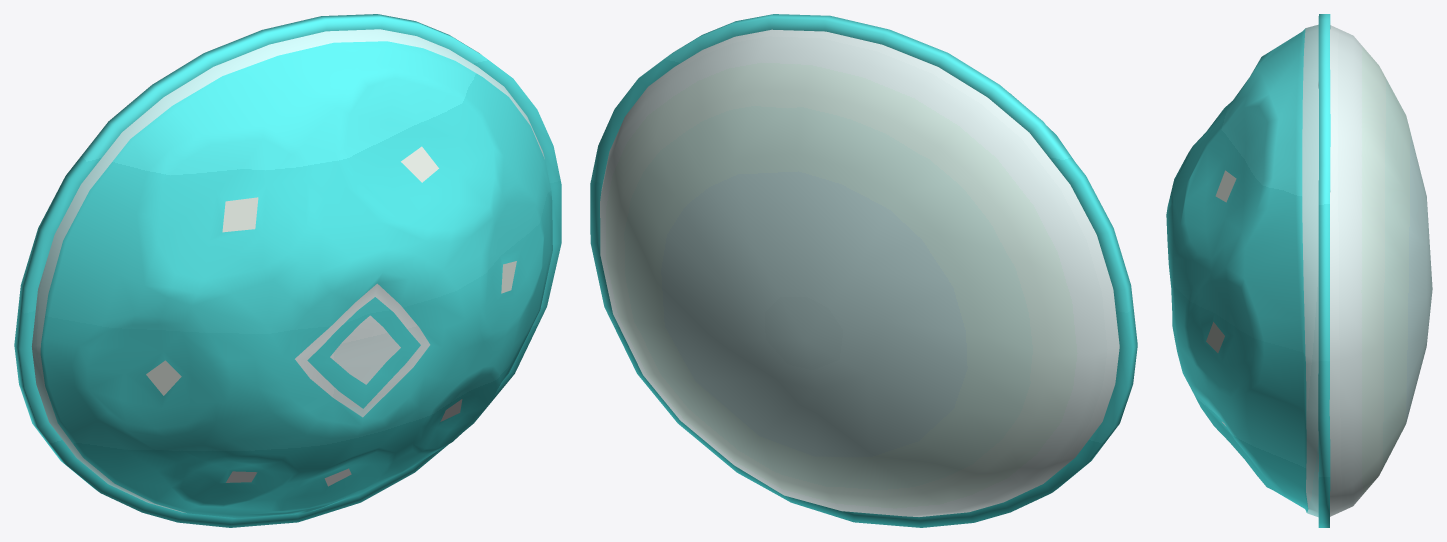
The model's file is CharSkyKid_Prop_AP07HandPan.glb.
The picture shows the model from 3 angles, left to right: view 1: azimuth 30°, elevation 25°; view 2: azimuth 150°, elevation 25°; view 3: azimuth 270°, elevation 25°; orthographic projection. The views are drawn at different scales.
Parts seen in each view (by area): view 1: CharSkyKid_Prop_AP07HandPan; view 2: CharSkyKid_Prop_AP07HandPan; view 3: CharSkyKid_Prop_AP07HandPan.
Boxes of the visible parts, x1,y1,x2,y2 form: CharSkyKid_Prop_AP07HandPan: (14, 14, 561, 527); CharSkyKid_Prop_AP07HandPan: (590, 14, 1137, 527); CharSkyKid_Prop_AP07HandPan: (1166, 14, 1432, 527).
Bounding box in the file's own units: 4.37 × 3.82 × 2.07.
Materials: 1 (1 with a texture image).
